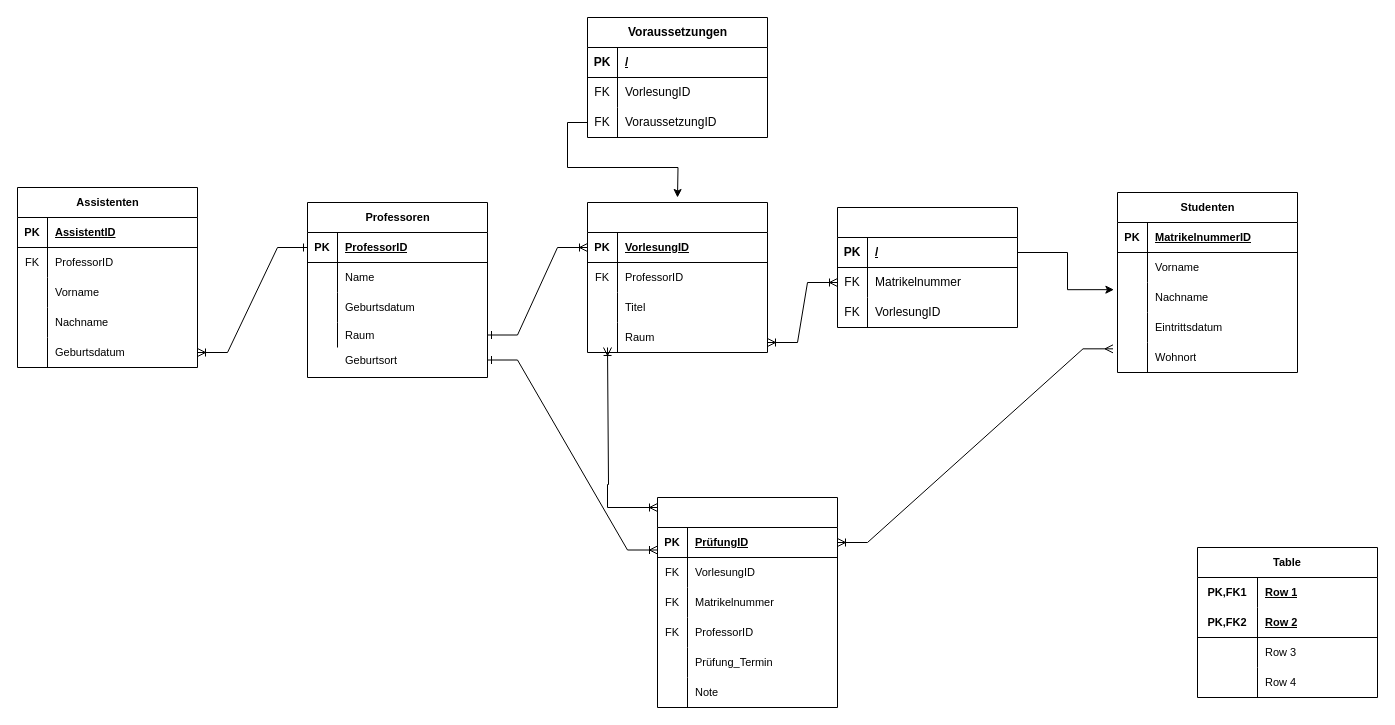
Some shapes in this 1395 by 725 pixel diagram are drawn without their labels. Each missing label, with the box of its shape:
Prüfungen: (656, 496, 838, 708)
Vorlesungen: (586, 202, 768, 352)
Vorlesungsbesuche: (836, 206, 1018, 328)
